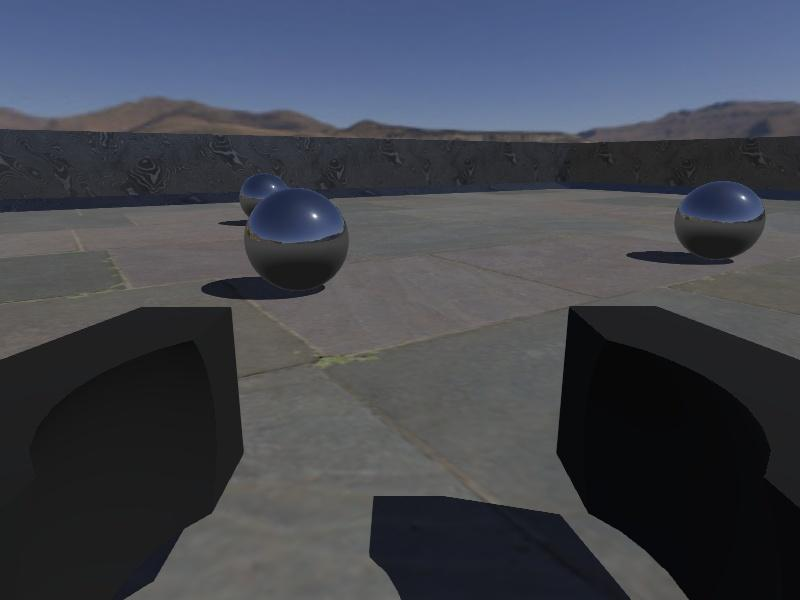steel ball: (243, 185, 350, 291), (674, 179, 768, 261)
